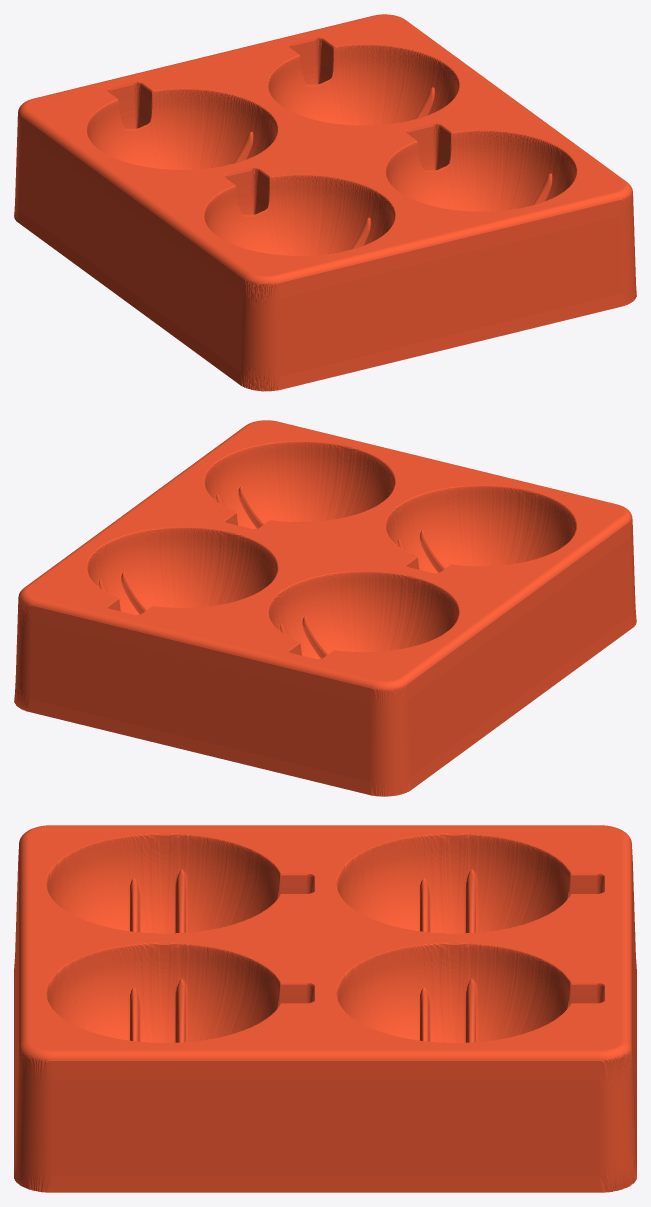
The model's file is mold.glb.
The picture shows the model from 3 angles, top to bottom: view 1: azimuth 30°, elevation 25°; view 2: azimuth 150°, elevation 25°; view 3: azimuth 270°, elevation 25°; orthographic projection. The views are drawn at different scales.
Parts seen in each view (by area): view 1: geometry_0; view 2: geometry_0; view 3: geometry_0.
Boxes of the visible parts, x1,y1,x2,y2 form: geometry_0: [14, 14, 636, 391]; geometry_0: [14, 420, 636, 796]; geometry_0: [14, 825, 636, 1192].
Size of the model in its own units: 0.1343 by 0.036 by 0.1493.
